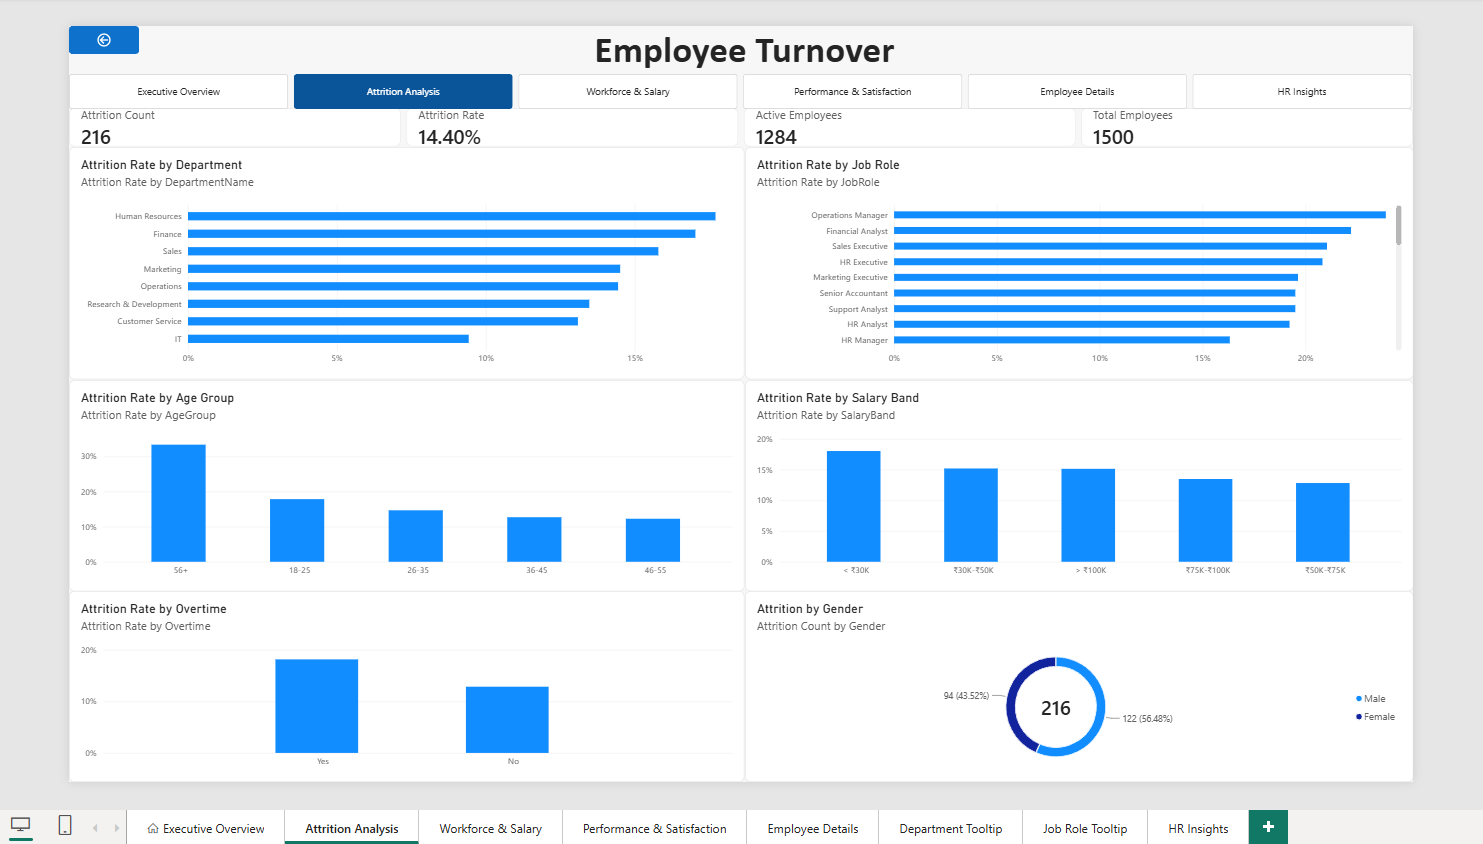

What the dashboard file says about the page in this screenshot:
{"tool":"powerbi","page":{"name":"Attrition Analysis","canvas":[1920,1080],"ordinal":1},"visuals":[{"type":"textbox","box":[10,0,1910,68.3],"z":0},{"type":"cardVisual","fields":{"Data":["FactEmployee.Attrition Count","FactEmployee.Attrition Rate","FactEmployee.Active Employees","FactEmployee.Total Employees"]},"box":[0,117.1,1920,55.7],"z":1000},{"type":"barChart","title":"Attrition Rate by Department","fields":{"Category":["DimDepartment.DepartmentName"],"Y":["FactEmployee.Attrition Rate"]},"box":[0,173.3,965,331.7],"z":2000},{"type":"barChart","title":"Attrition Rate by Job Role","fields":{"Category":["DimJobRole.JobRole"],"Y":["FactEmployee.Attrition Rate"]},"box":[965,173.3,955,331.7],"z":3000},{"type":"columnChart","title":"Attrition Rate by Age Group","fields":{"Category":["FactEmployee.AgeGroup"],"Y":["FactEmployee.Attrition Rate"]},"box":[0,505,965,301.7],"z":4000},{"type":"columnChart","title":"Attrition Rate by Salary Band","fields":{"Category":["FactEmployee.SalaryBand"],"Y":["FactEmployee.Attrition Rate"]},"box":[965,505,955,301.7],"z":5000},{"type":"clusteredColumnChart","title":"Attrition Rate by Overtime","fields":{"Category":["FactEmployee.Overtime"],"Y":["FactEmployee.Attrition Rate"]},"box":[0,806.7,965,273.3],"z":6000},{"type":"donutChart","title":"Attrition by Gender","fields":{"Category":["FactEmployee.Gender"],"Y":["FactEmployee.Attrition Count"]},"box":[965,807,955,273],"z":7000},{"type":"pageNavigator","box":[0,68.6,1920,50],"z":8000},{"type":"actionButton","box":[0,0,100,40],"z":9000}]}

Visuals, with their boxes on the page's 1920x1080 design canvas (x1, y1, x2, y2). These are canvas units, not pixel positions in the 1483x844 screenshot, which may show the page scaled, cropped or inside an application window:
textbox: <region>10, 0, 1920, 68</region>
cardVisual - FactEmployee.Attrition Count x FactEmployee.Attrition Rate: <region>0, 117, 1920, 173</region>
"Attrition Rate by Department" barChart: <region>0, 173, 965, 505</region>
"Attrition Rate by Job Role" barChart: <region>965, 173, 1920, 505</region>
"Attrition Rate by Age Group" columnChart: <region>0, 505, 965, 807</region>
"Attrition Rate by Salary Band" columnChart: <region>965, 505, 1920, 807</region>
"Attrition Rate by Overtime" clusteredColumnChart: <region>0, 807, 965, 1080</region>
"Attrition by Gender" donutChart: <region>965, 807, 1920, 1080</region>
pageNavigator: <region>0, 69, 1920, 119</region>
actionButton: <region>0, 0, 100, 40</region>
